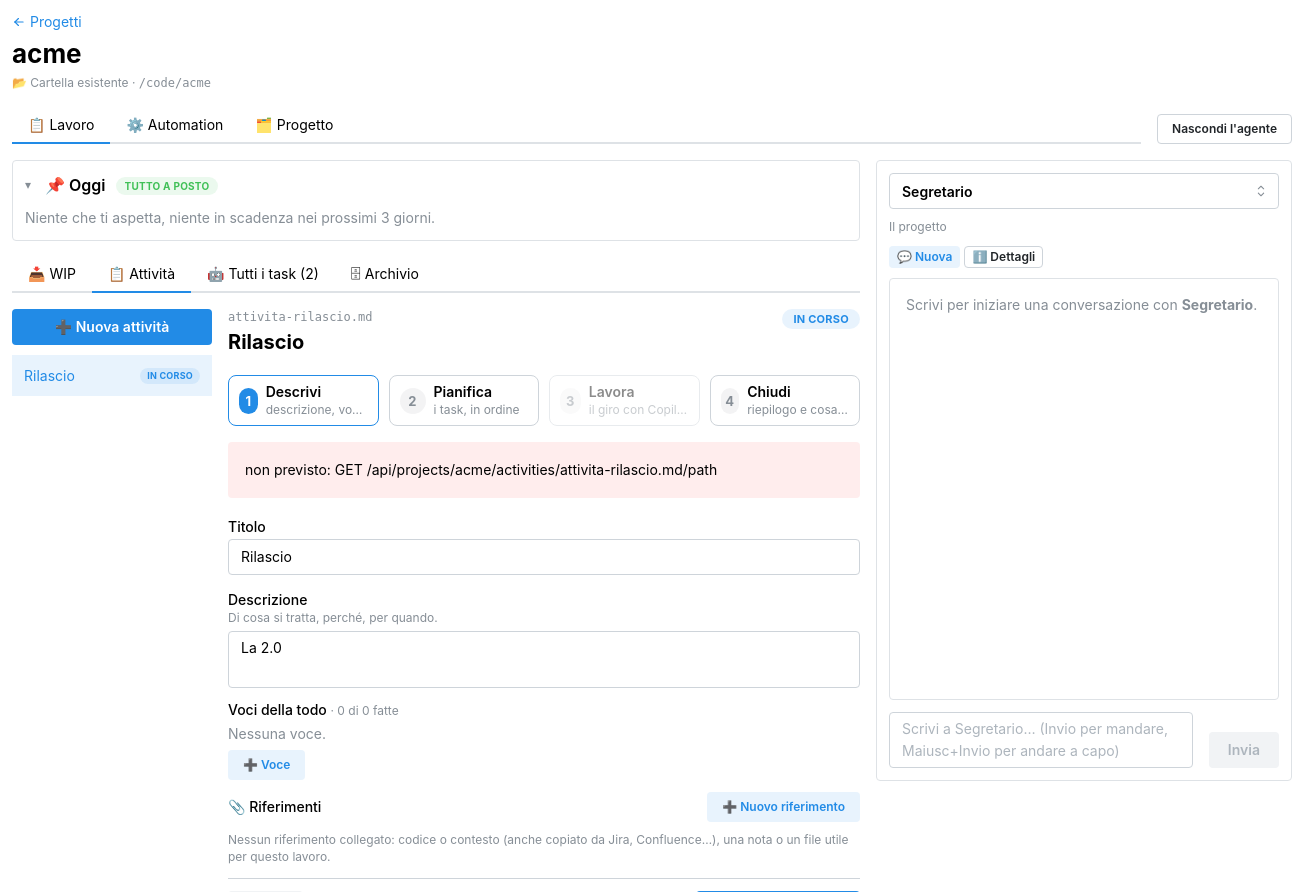
Test case: the panel › hides, remembered; «Progetto» has none
The image size is (1304, 892).
Expected: the element with test id "agent-panel" is shown, [889, 173, 1279, 768]
Click the button "Nascondi l'agente" at (1224, 129), box [1157, 114, 1292, 144]
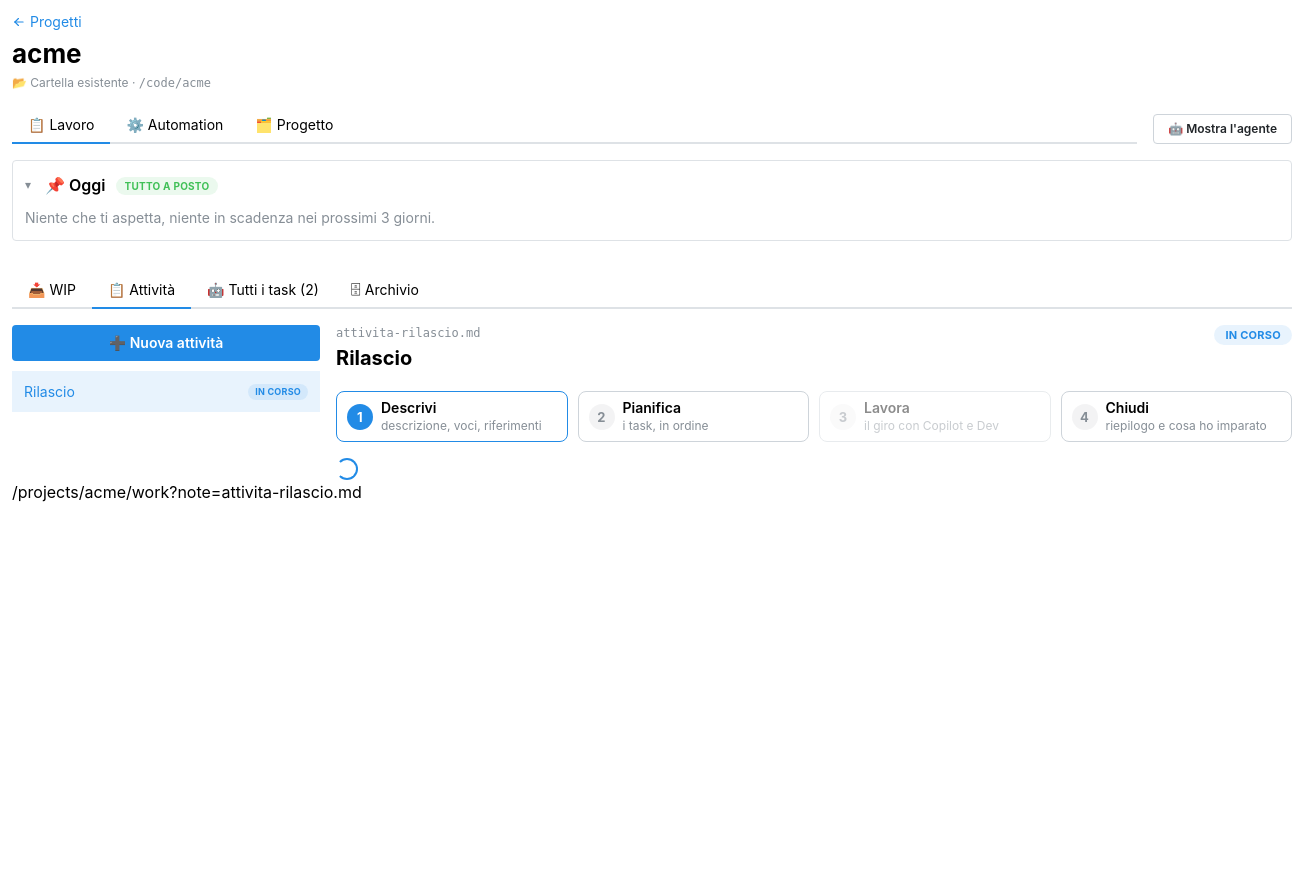
Expected: the element with test id "agent-panel" is gone
Click the button "🤖 Mostra l'agente" at (1223, 129), box [1153, 114, 1292, 144]
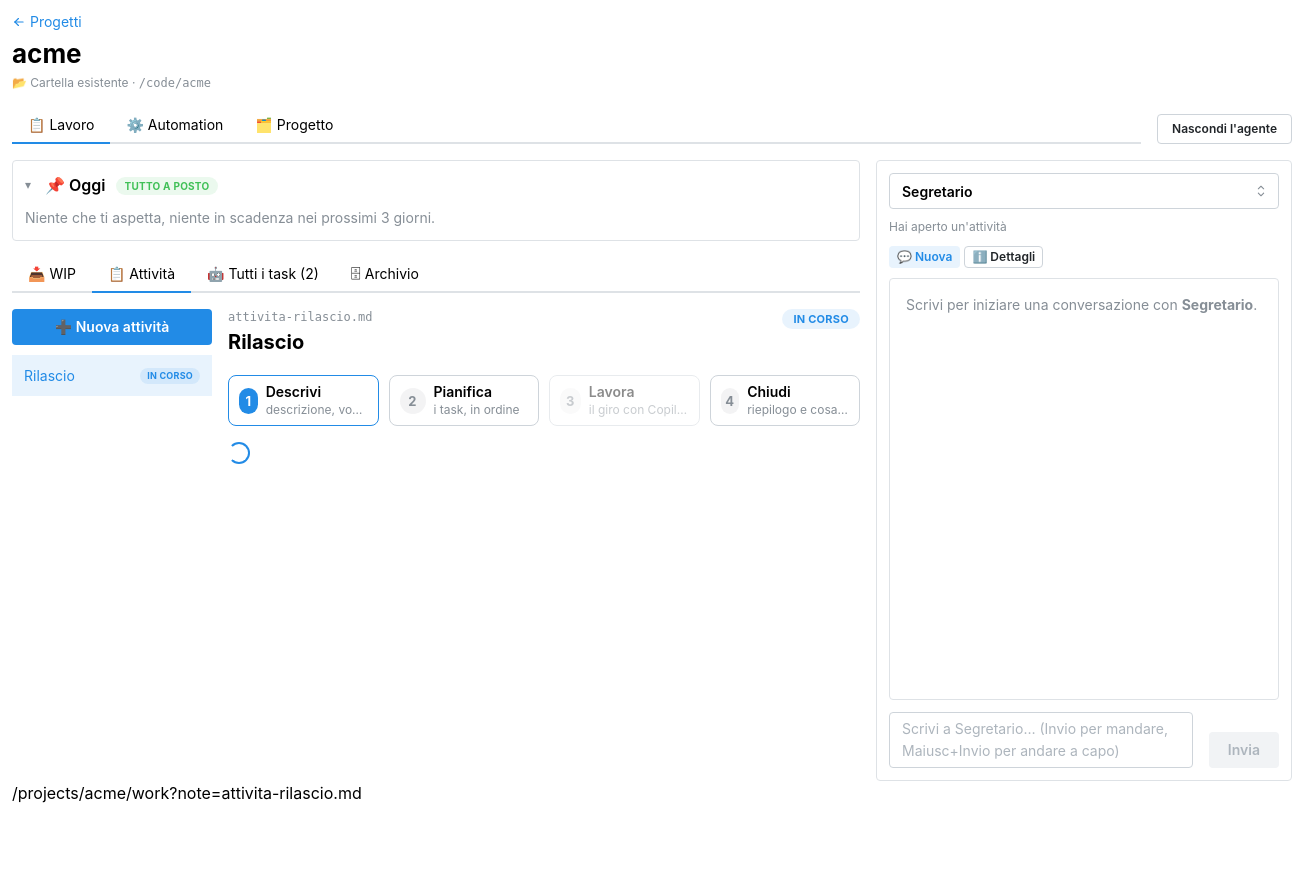
Expected: the element with test id "agent-panel" is shown, [889, 173, 1279, 768]
Click the tab "🗂️ Progetto" at (294, 126), box [239, 108, 349, 144]
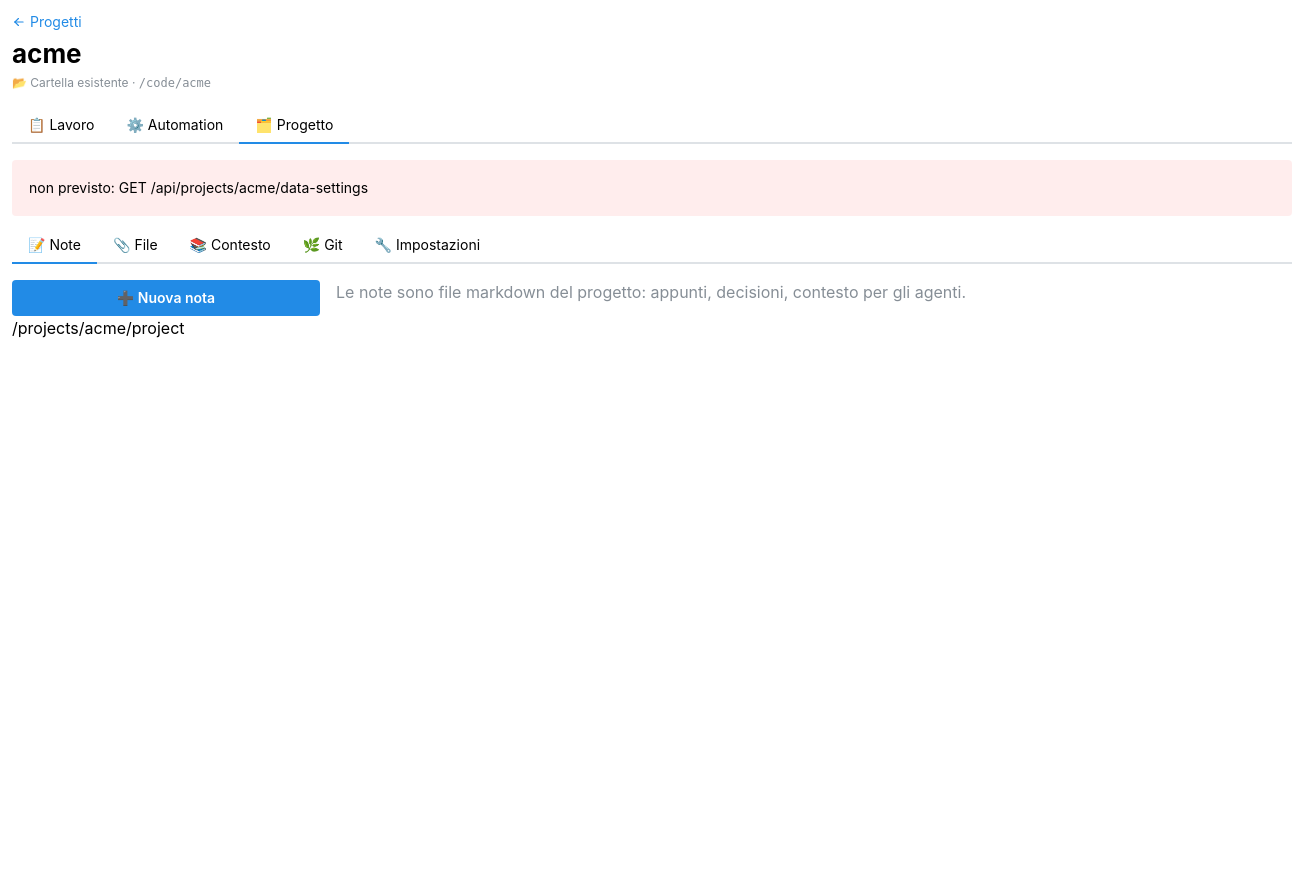
Expected: the element with test id "agent-panel" is gone
